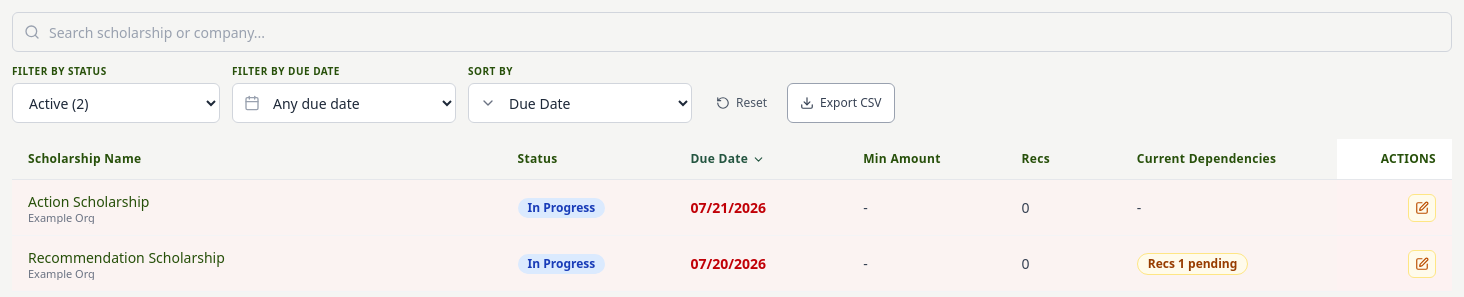
GridView › includes pending recommendations in dependencies
Expected: the text "Recommendation Scholarship" is shown, left=28, top=248, right=225, bottom=266
Select "Dependencies (1)" in the dropdown labelled "Filter by status" at (116, 103), box left=12, top=83, right=220, bottom=123
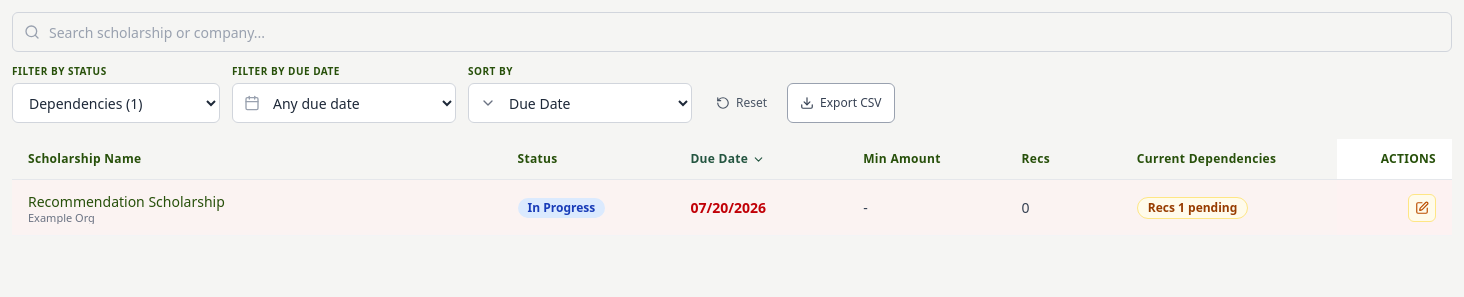
Expected: the text "Recommendation Scholarship" is shown, left=28, top=192, right=225, bottom=210
Result: the text "Action Scholarship" is gone
